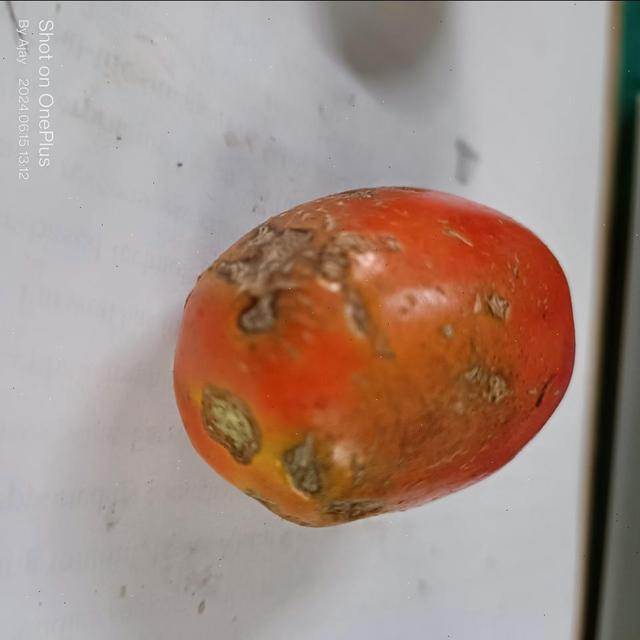Bacterial Spot Fruit: (20, 24, 330, 309)
